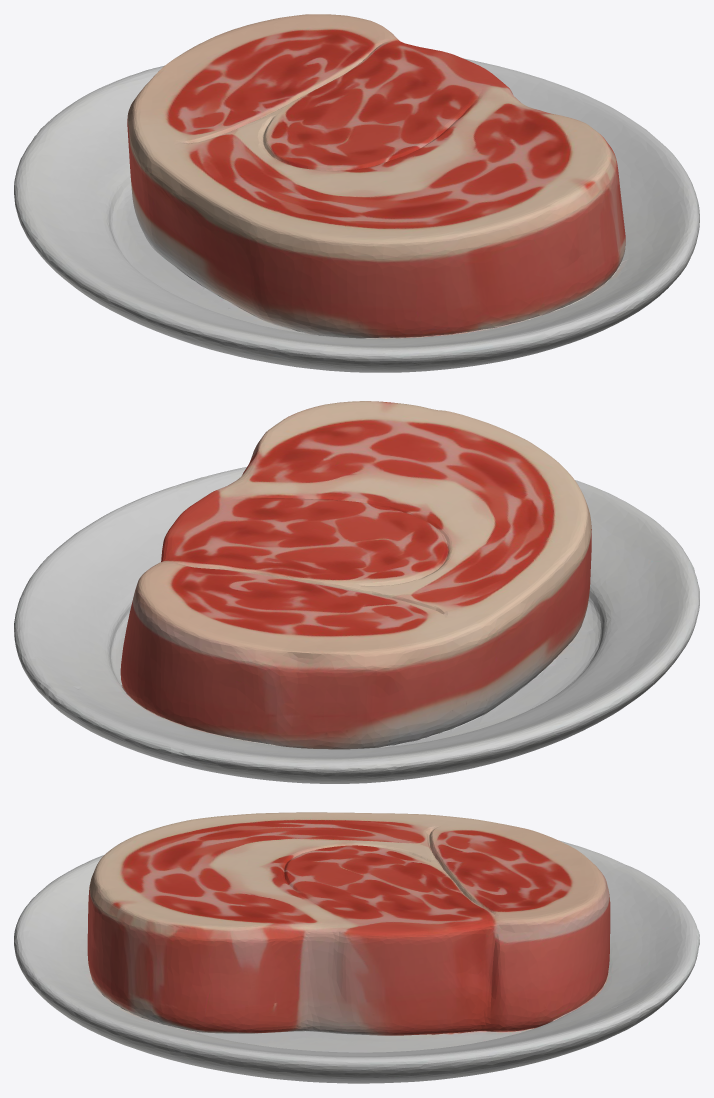
The model's file is meal_9.glb.
The picture shows the model from 3 angles, top to bottom: view 1: azimuth 30°, elevation 25°; view 2: azimuth 150°, elevation 25°; view 3: azimuth 270°, elevation 25°; orthographic projection. The views are drawn at different scales.
Visible parts, largest first — view 1: tripo_node_cbe20d83-23cb-4c25-af37-11dddb9f1478; view 2: tripo_node_cbe20d83-23cb-4c25-af37-11dddb9f1478; view 3: tripo_node_cbe20d83-23cb-4c25-af37-11dddb9f1478.
Boxes of the visible parts, x1,y1,x2,y2 form: tripo_node_cbe20d83-23cb-4c25-af37-11dddb9f1478: (14,14,699,372); tripo_node_cbe20d83-23cb-4c25-af37-11dddb9f1478: (14,401,699,783); tripo_node_cbe20d83-23cb-4c25-af37-11dddb9f1478: (14,812,699,1083).
Bounding box in the file's own units: 0.881 × 0.2199 × 1.
Materials: 1 (1 with a texture image).
